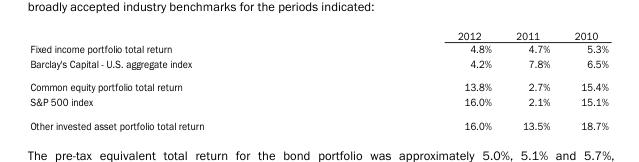table: (29, 29, 607, 130)
table column: (29, 29, 330, 130), (330, 29, 503, 130), (503, 29, 561, 130), (561, 29, 607, 130)
table column header: (29, 29, 607, 41)
table row: (29, 55, 607, 74), (29, 74, 607, 93), (29, 93, 607, 112), (29, 112, 607, 130), (29, 41, 607, 55), (29, 29, 607, 41)
